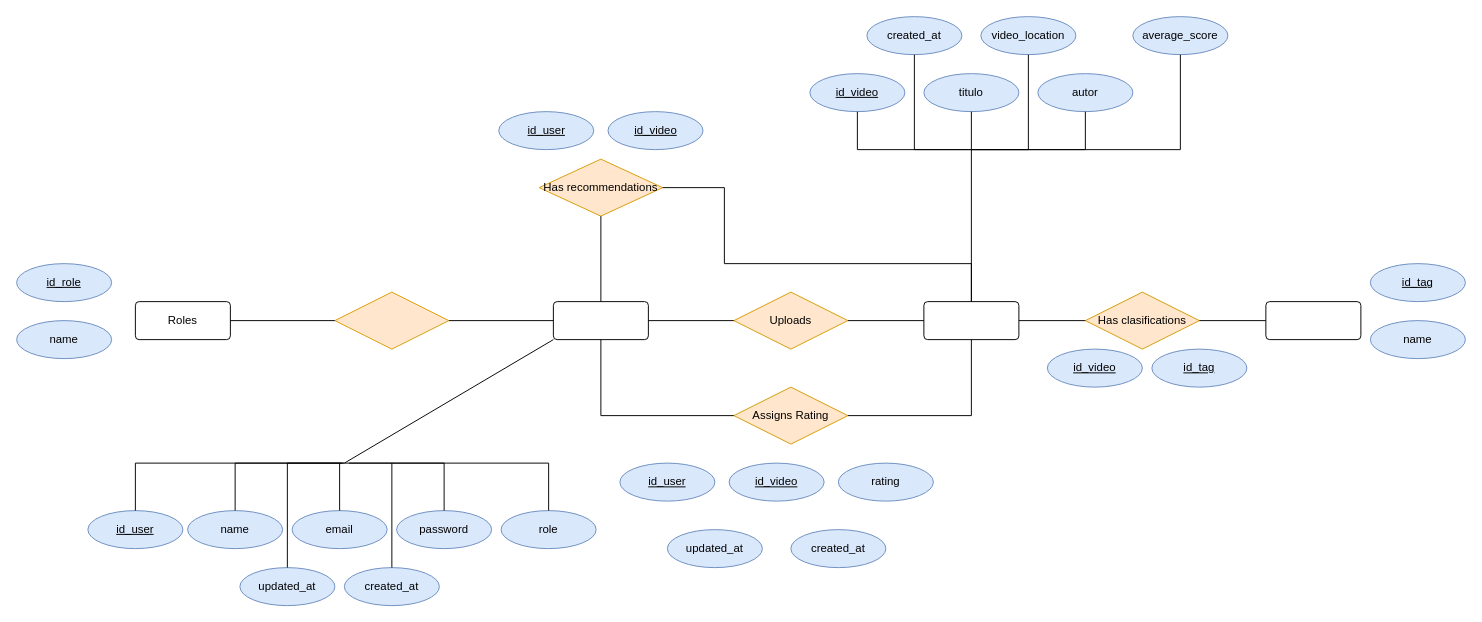
Image size: 1482x622. Some labels were removed from this diagram. Each missing label, with the centre of its shape:
Has: the point at 391,320
Tags: the point at 1313,320
Users: the point at 600,320
Videos: the point at 971,320
